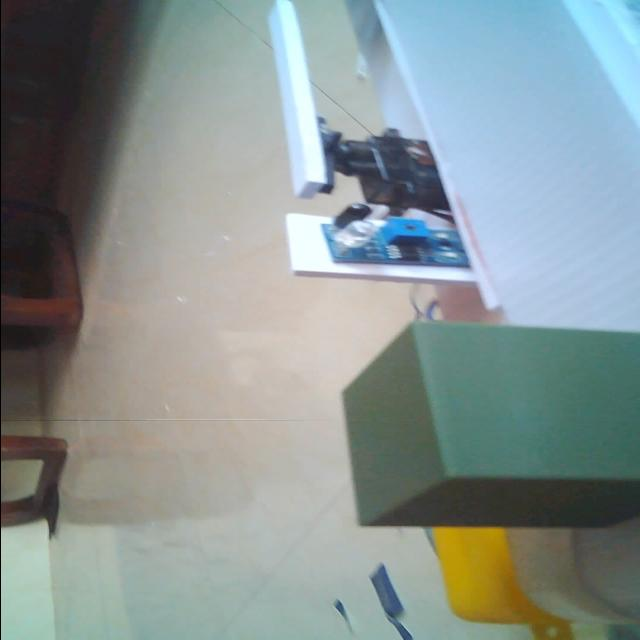green: (328, 317, 639, 536)
